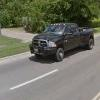Car: (22, 16, 98, 69)
